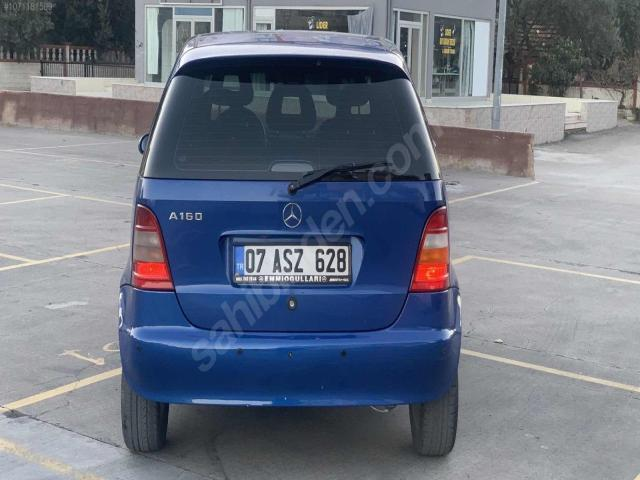plaka: (233, 238, 351, 284)
